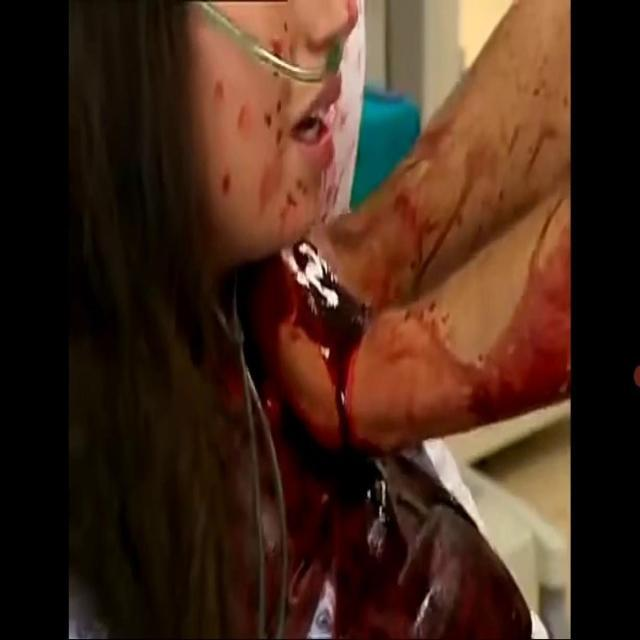flood: (230, 129, 516, 640)
